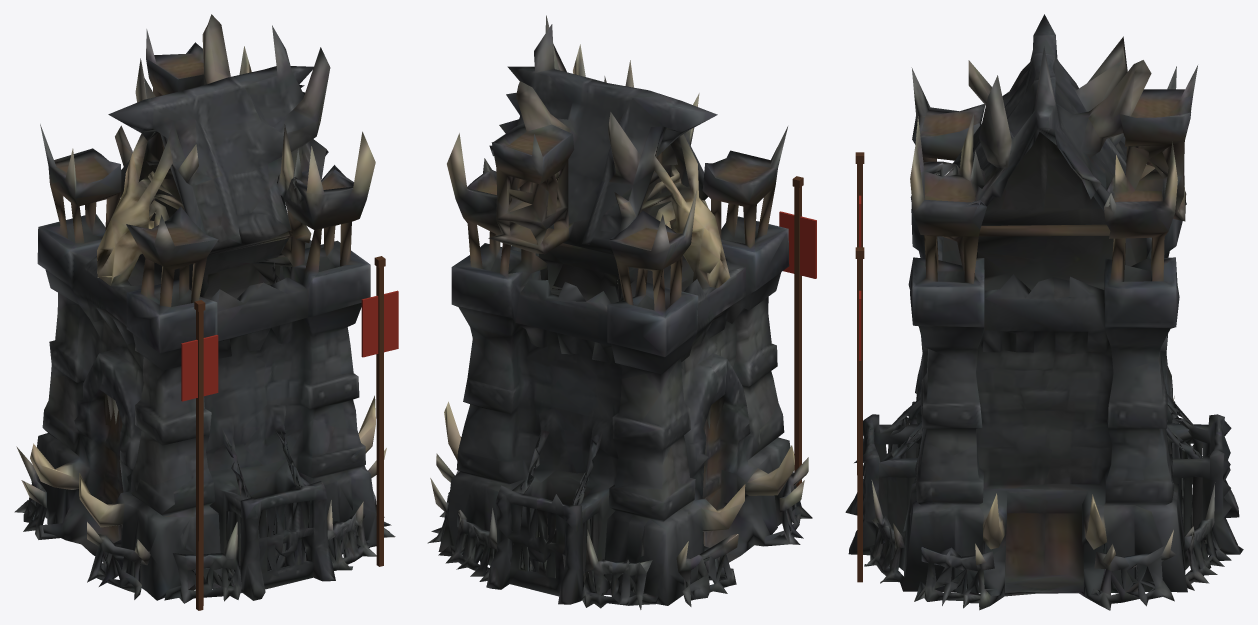
The model's file is hq_orc_3.glb.
3 renders of one model, left to right at view 1: azimuth 30°, elevation 25°; view 2: azimuth 150°, elevation 25°; view 3: azimuth 270°, elevation 25°, orthographic. The views are drawn at different scales.
Visible parts, largest first — view 1: Static_Mesh; view 2: Static_Mesh; view 3: Static_Mesh.
Part boxes in pixels (<box>): Static_Mesh: <box>14,14,398,610</box>; Static_Mesh: <box>427,15,816,609</box>; Static_Mesh: <box>845,14,1243,610</box>.
Bounding box in the file's own units: 8.78 × 13.5 × 9.34.
2 materials, 2 textured.
